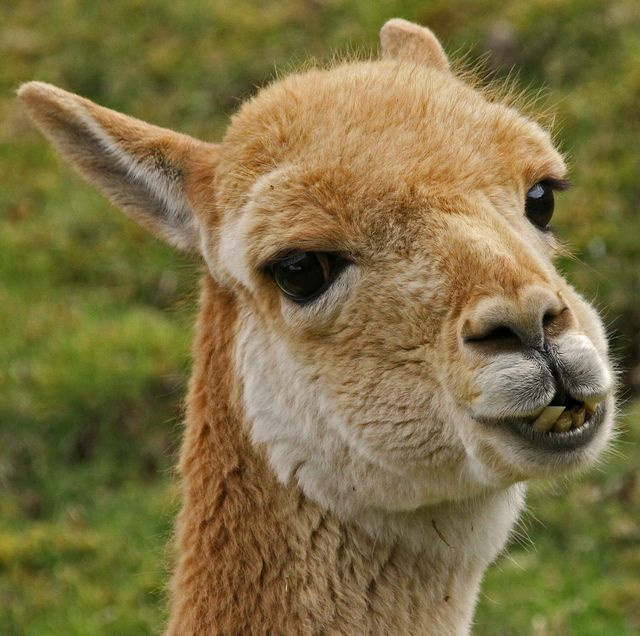eye: (244, 242, 357, 308), (511, 155, 590, 249)
mouth: (463, 357, 627, 465)
